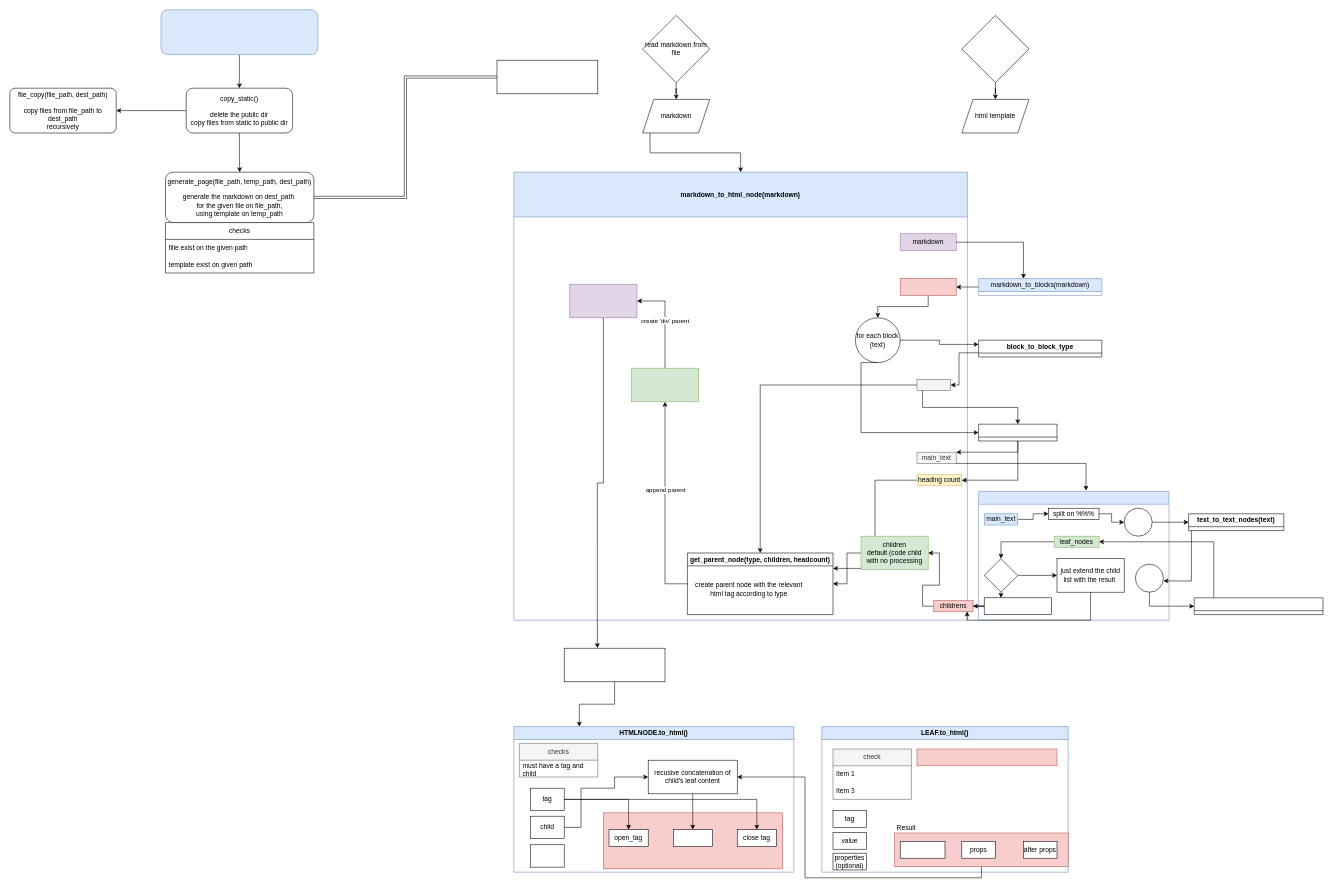
This 1333x892 diagram has some shape labels left out. The shapes that lost their labels are listed below. From the top down, each one's centre as x and y in pixels, then its label:
point (239, 32): Static Site Generator
point (995, 49): read template from temp_file
point (547, 77): generate_page(file_path, temp_path, dest_path
point (603, 301): root
point (928, 286): markdown blocks
point (665, 385): root_child
point (933, 385): type
point (1017, 432): extract_block_text
point (1138, 522): for each item in splited list
point (1001, 575): if type is list
point (1149, 578): for each text_node
point (1017, 606): wrap with li tag and append
point (1258, 606): text_node_to_html_leaf_node(node)
point (614, 665): html_node div container inside the body tag of html doc
point (986, 757): if the tag is p, it just return the value with no tags
point (547, 855): props (optional)
point (693, 837): content
point (922, 849): before props
